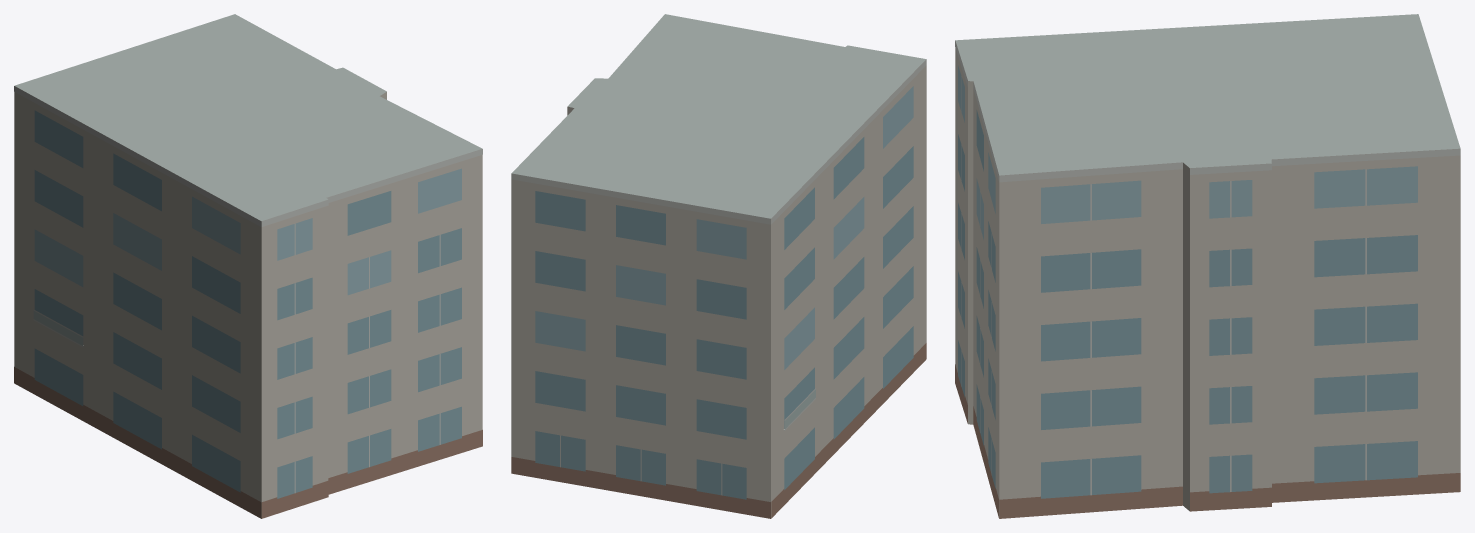
File: survey-upis-32967449.glb
3 renders of one model, left to right at view 1: azimuth 30°, elevation 25°; view 2: azimuth 150°, elevation 25°; view 3: azimuth 270°, elevation 25°, orthographic. The views are drawn at different scales.
Parts seen in each view (by area): view 1: survey-upis-32967449.tmp; view 2: survey-upis-32967449.tmp; view 3: survey-upis-32967449.tmp.
Boxes of the visible parts, x1,y1,x2,y2 form: survey-upis-32967449.tmp: (14, 14, 482, 518); survey-upis-32967449.tmp: (511, 14, 926, 518); survey-upis-32967449.tmp: (955, 14, 1460, 518).
Bounding box in the file's own units: 12.32 × 12.2 × 16.29.
